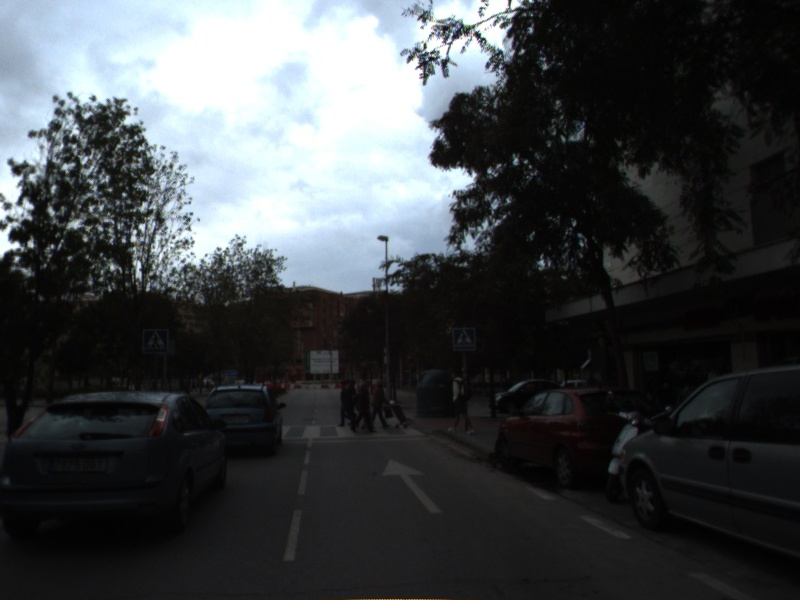STRAIGHT: (380, 457, 445, 515)
